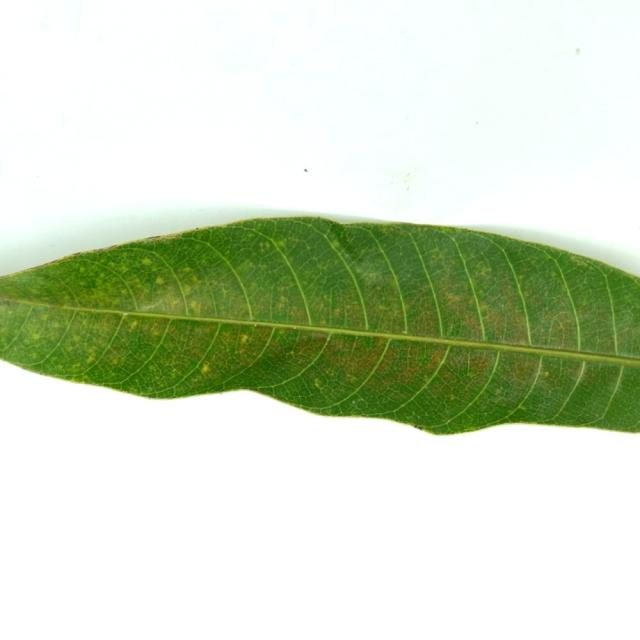Mango: (0, 217, 639, 433)
Powdery_Mildew: (597, 363, 640, 424), (471, 297, 524, 339), (6, 290, 81, 312), (262, 325, 348, 344), (251, 214, 347, 229), (421, 417, 496, 435), (402, 223, 483, 236), (116, 387, 195, 400), (235, 310, 265, 326), (443, 289, 469, 307), (485, 396, 524, 408), (138, 299, 164, 311), (196, 360, 215, 376), (429, 351, 444, 367), (618, 350, 640, 359), (431, 249, 446, 261), (28, 332, 42, 344), (570, 255, 586, 265), (398, 300, 408, 314), (181, 283, 192, 295), (479, 266, 491, 276), (76, 266, 88, 276), (353, 397, 366, 406), (151, 327, 162, 337), (318, 263, 328, 273), (189, 299, 198, 310), (330, 240, 341, 249), (556, 322, 567, 331), (259, 241, 270, 250), (154, 236, 168, 243), (155, 276, 165, 285), (240, 334, 249, 344), (347, 374, 357, 383), (479, 302, 489, 311), (141, 257, 152, 265), (516, 273, 524, 284), (69, 251, 86, 256), (411, 423, 423, 430), (87, 355, 96, 364), (130, 320, 139, 329), (279, 295, 287, 305), (276, 239, 286, 247), (493, 387, 502, 395), (246, 261, 255, 269), (73, 362, 82, 370), (183, 266, 193, 273), (66, 345, 74, 353), (315, 378, 322, 387), (119, 266, 128, 273), (112, 357, 119, 365), (467, 371, 475, 378), (288, 349, 296, 356), (172, 368, 179, 376), (319, 319, 327, 325), (544, 370, 550, 376), (449, 395, 456, 400), (121, 313, 129, 317), (402, 330, 408, 334), (501, 303, 505, 308), (352, 400, 356, 404), (8, 310, 12, 314), (293, 327, 298, 330), (195, 227, 199, 230), (638, 227, 640, 230)
